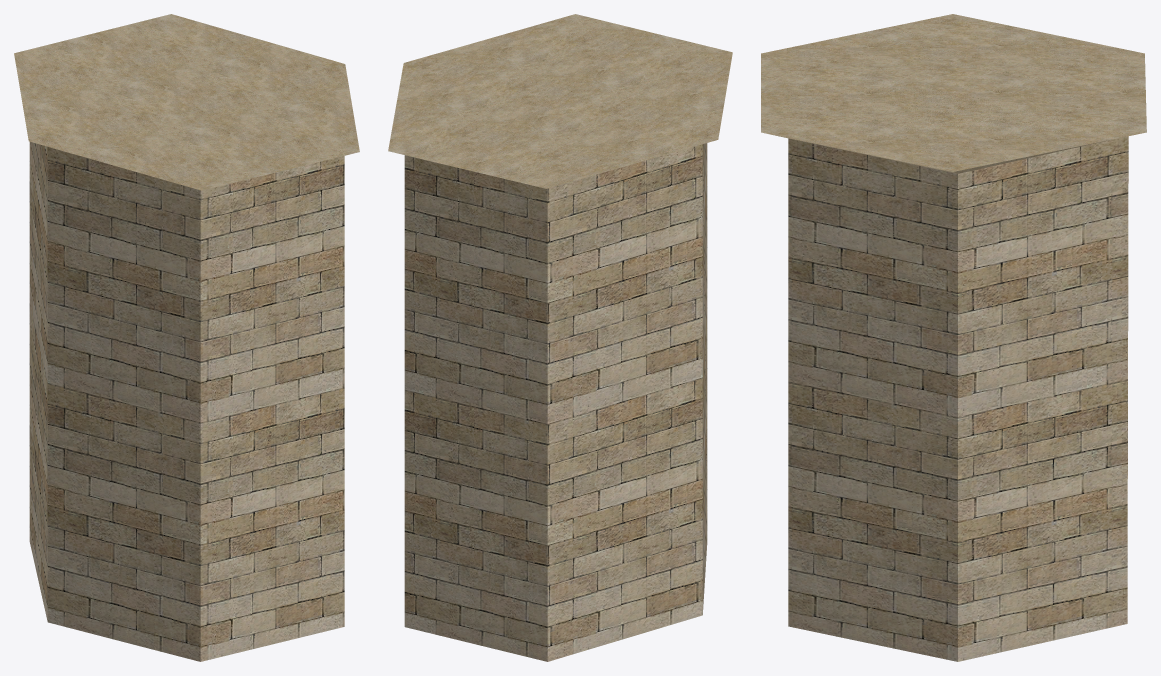
File: thm_nboo_thed_imprv_seawall_intersection_s01_l0.fbx
3 renders of one model, left to right at view 1: azimuth 30°, elevation 25°; view 2: azimuth 150°, elevation 25°; view 3: azimuth 270°, elevation 25°, orthographic. The views are drawn at different scales.
Visible parts, largest first — view 1: mesh_node; view 2: mesh_node; view 3: mesh_node.
Part boxes in pixels (bbox=[...]): mesh_node: bbox=[14, 14, 359, 661]; mesh_node: bbox=[388, 14, 732, 661]; mesh_node: bbox=[761, 14, 1146, 661].
Size of the model in its own units: 6.36 by 9.29 by 6.56.
